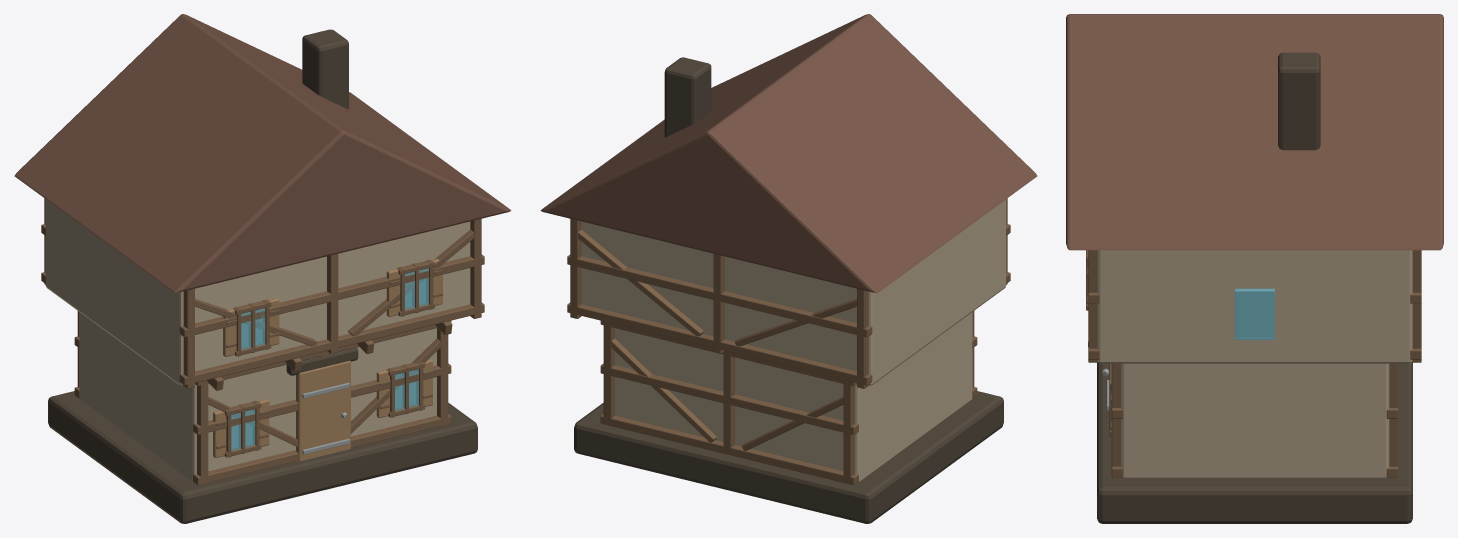
The model's file is house_a.glb.
The picture shows the model from 3 angles, left to right: view 1: azimuth 30°, elevation 25°; view 2: azimuth 150°, elevation 25°; view 3: azimuth 270°, elevation 25°; orthographic projection. The views are drawn at different scales.
Visible parts, largest first — view 1: Roof, OverhangingUpperFloor, GroundFloor, StoneFoundation, INTERACT_Door, TimberBeam.006, Chimney, TimberBeam.008, TimberBeam, TimberBeam.002, DiagonalBrace.006, TimberPost.008 (+12 smaller); view 2: Roof, OverhangingUpperFloor, GroundFloor, StoneFoundation, TimberBeam.007, TimberBeam.009, Chimney, TimberBeam.003, TimberBeam.001, DiagonalBrace.007, DiagonalBrace.003, TimberBeam.005 (+8 smaller); view 3: Roof, OverhangingUpperFloor, GroundFloor, StoneFoundation, Chimney, WindowGlass.005, TimberPost.004, TimberPost.005, TimberPost.010, TimberPost.011.
Boxes of the visible parts, x1=… form: Roof: x1=14, y1=14, x2=511, y2=293; OverhangingUpperFloor: x1=45, y1=199, x2=470, y2=385; GroundFloor: x1=79, y1=312, x2=436, y2=481; StoneFoundation: x1=48, y1=391, x2=477, y2=523; INTERACT_Door: x1=296, y1=360, x2=350, y2=461; TimberBeam.006: x1=179, y1=302, x2=484, y2=385; Chimney: x1=302, y1=29, x2=348, y2=109; TimberBeam.008: x1=179, y1=254, x2=484, y2=337; TimberBeam: x1=193, y1=414, x2=451, y2=485; TimberBeam.002: x1=193, y1=363, x2=451, y2=434; DiagonalBrace.006: x1=348, y1=229, x2=473, y2=336; TimberPost.008: x1=327, y1=254, x2=338, y2=353; Roof: x1=540, y1=14, x2=1037, y2=293; OverhangingUpperFloor: x1=581, y1=199, x2=1006, y2=385; GroundFloor: x1=615, y1=312, x2=972, y2=481; StoneFoundation: x1=574, y1=391, x2=1003, y2=523; TimberBeam.007: x1=567, y1=302, x2=872, y2=385; TimberBeam.009: x1=567, y1=254, x2=872, y2=337; Chimney: x1=664, y1=57, x2=711, y2=137; TimberBeam.003: x1=600, y1=363, x2=858, y2=434; TimberBeam.001: x1=600, y1=414, x2=858, y2=485; DiagonalBrace.007: x1=578, y1=229, x2=703, y2=336; DiagonalBrace.003: x1=611, y1=338, x2=716, y2=442; TimberBeam.005: x1=600, y1=320, x2=856, y2=386; Roof: x1=1066, y1=14, x2=1443, y2=250; OverhangingUpperFloor: x1=1097, y1=250, x2=1412, y2=363; GroundFloor: x1=1120, y1=363, x2=1389, y2=477; StoneFoundation: x1=1097, y1=362, x2=1412, y2=523; Chimney: x1=1278, y1=52, x2=1320, y2=150; WindowGlass.005: x1=1235, y1=288, x2=1274, y2=339; TimberPost.004: x1=1111, y1=363, x2=1120, y2=466; TimberPost.005: x1=1389, y1=363, x2=1398, y2=466; TimberPost.010: x1=1088, y1=250, x2=1097, y2=362; TimberPost.011: x1=1412, y1=250, x2=1421, y2=362.
Size of the model in its own units: 7.66 by 8 by 6.39.
